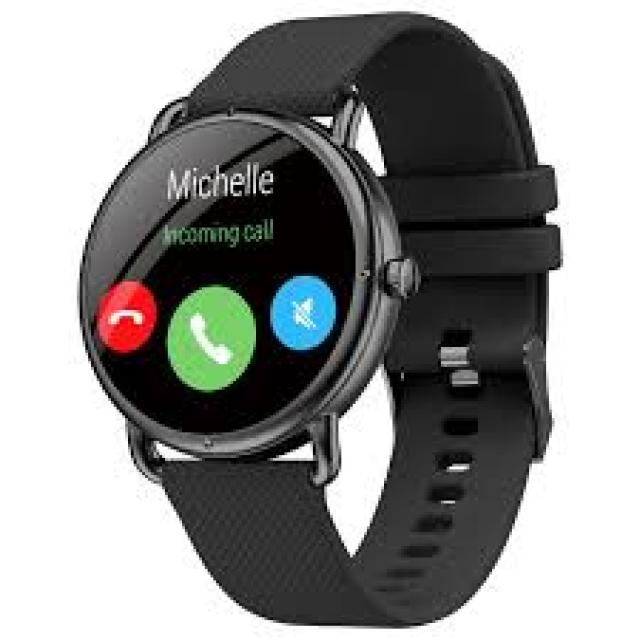objects: (80, 11, 558, 626)
